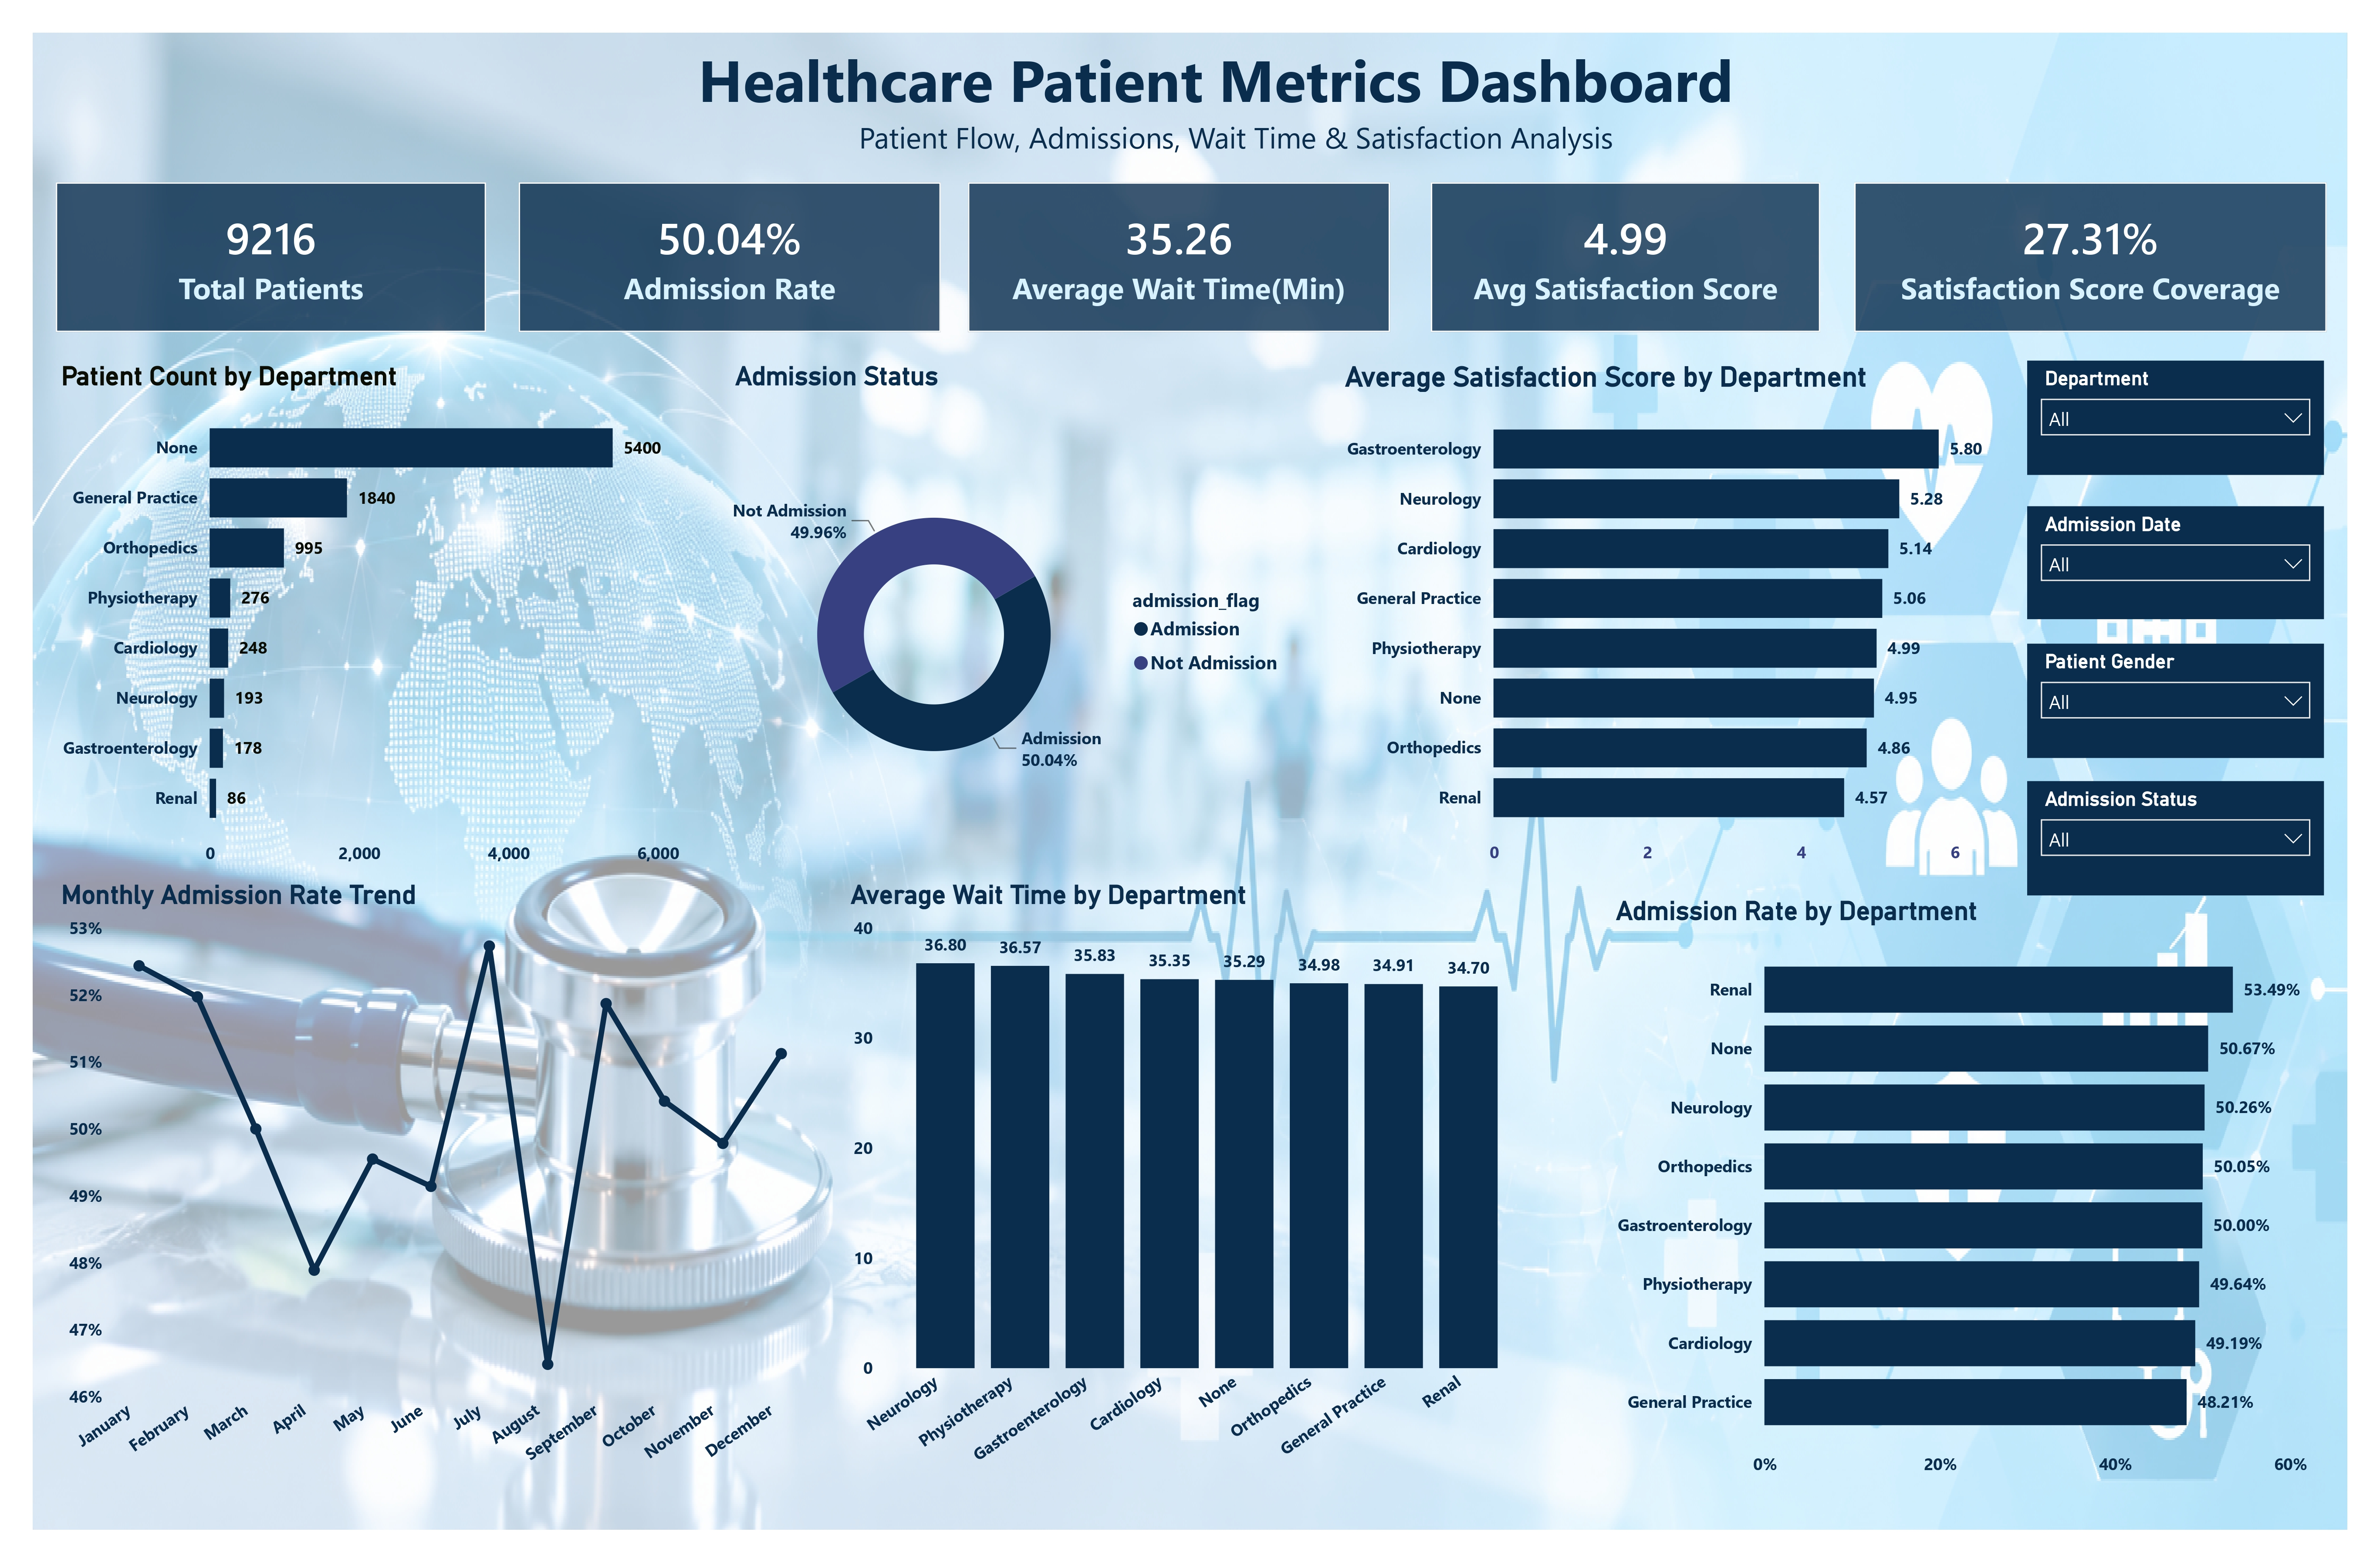

The page's visual inventory and layout, read from the dashboard file:
{"tool":"powerbi","page":{"name":"Page 1","canvas":[1700,1100],"ordinal":0},"visuals":[{"type":"image","box":[0,0,1700,1100],"z":0},{"type":"textbox","box":[484,0,800,110],"z":1000},{"type":"cardVisual","fields":{"Data":["healthcare.Total Patients"]},"box":[16.7,110,316.7,110],"z":2000},{"type":"cardVisual","fields":{"Data":["healthcare.Admission Rate"]},"box":[356.7,110,310,110],"z":3000},{"type":"cardVisual","fields":{"Data":["healthcare.Average Wait Time"]},"box":[686.7,110,310,110],"z":4000},{"type":"cardVisual","fields":{"Data":["healthcare.Average Satisfaction Score"]},"box":[1026.7,110,286.7,110],"z":5000},{"type":"cardVisual","fields":{"Data":["healthcare.Satisfaction Score Coverage"]},"box":[1338.3,110,346.7,110],"z":6000},{"type":"clusteredBarChart","title":"Patient Count by Department","fields":{"Category":["healthcare.department_referral"],"Y":["CountNonNull(healthcare.patient_id)"]},"box":[15.7,241.4,467.1,380],"z":7000},{"type":"donutChart","title":"Admission Status","fields":{"Category":["healthcare.admission_flag"],"Y":["CountNonNull(healthcare.patient_id)"]},"box":[511.4,241.4,417.1,380],"z":8000},{"type":"clusteredColumnChart","title":"Average Wait Time by Department","fields":{"Category":["healthcare.department_referral"],"Y":["healthcare.Average Wait Time"]},"box":[596,622,508,448],"z":9000},{"type":"clusteredBarChart","title":"Average Satisfaction Score by Department","fields":{"Category":["healthcare.department_referral"],"Y":["healthcare.Average Satisfaction Score"]},"box":[958.6,241.4,482.9,380],"z":10000},{"type":"clusteredBarChart","title":"Admission Rate by Department","fields":{"Category":["healthcare.department_referral"],"Y":["healthcare.Admission Rate"]},"box":[1158,634,526,436],"z":11000},{"type":"lineChart","title":"Monthly Admission Rate Trend","fields":{"Category":["healthcare.admission_date.Variation.Date Hierarchy.Month"],"Y":["healthcare.Admission Rate"]},"box":[16,622,556,448],"z":12000},{"type":"slicer","fields":{"Values":["healthcare.department_referral"]},"box":[1465,241.2,217.5,83.8],"z":13000},{"type":"slicer","fields":{"Values":["healthcare.admission_date"]},"box":[1465,347.5,217.5,83.8],"z":14000},{"type":"slicer","fields":{"Values":["healthcare.gender"]},"box":[1465,448.8,217.5,83.8],"z":15000},{"type":"slicer","fields":{"Values":["healthcare.admission_flag"]},"box":[1465,550,217.5,83.8],"z":16000}]}

Visuals, with their boxes on the page's 1700x1100 design canvas (x1, y1, x2, y2). These are canvas units, not pixel positions in the 2380x1562 screenshot, which may show the page scaled, cropped or inside an application window:
image: bbox=(0, 0, 1700, 1100)
textbox: bbox=(484, 0, 1284, 110)
cardVisual - healthcare.Total Patients: bbox=(17, 110, 333, 220)
cardVisual - healthcare.Admission Rate: bbox=(357, 110, 667, 220)
cardVisual - healthcare.Average Wait Time: bbox=(687, 110, 997, 220)
cardVisual - healthcare.Average Satisfaction Score: bbox=(1027, 110, 1313, 220)
cardVisual - healthcare.Satisfaction Score Coverage: bbox=(1338, 110, 1685, 220)
"Patient Count by Department" clusteredBarChart: bbox=(16, 241, 483, 621)
"Admission Status" donutChart: bbox=(511, 241, 928, 621)
"Average Wait Time by Department" clusteredColumnChart: bbox=(596, 622, 1104, 1070)
"Average Satisfaction Score by Department" clusteredBarChart: bbox=(959, 241, 1442, 621)
"Admission Rate by Department" clusteredBarChart: bbox=(1158, 634, 1684, 1070)
"Monthly Admission Rate Trend" lineChart: bbox=(16, 622, 572, 1070)
slicer - healthcare.department_referral: bbox=(1465, 241, 1682, 325)
slicer - healthcare.admission_date: bbox=(1465, 348, 1682, 431)
slicer - healthcare.gender: bbox=(1465, 449, 1682, 533)
slicer - healthcare.admission_flag: bbox=(1465, 550, 1682, 634)
